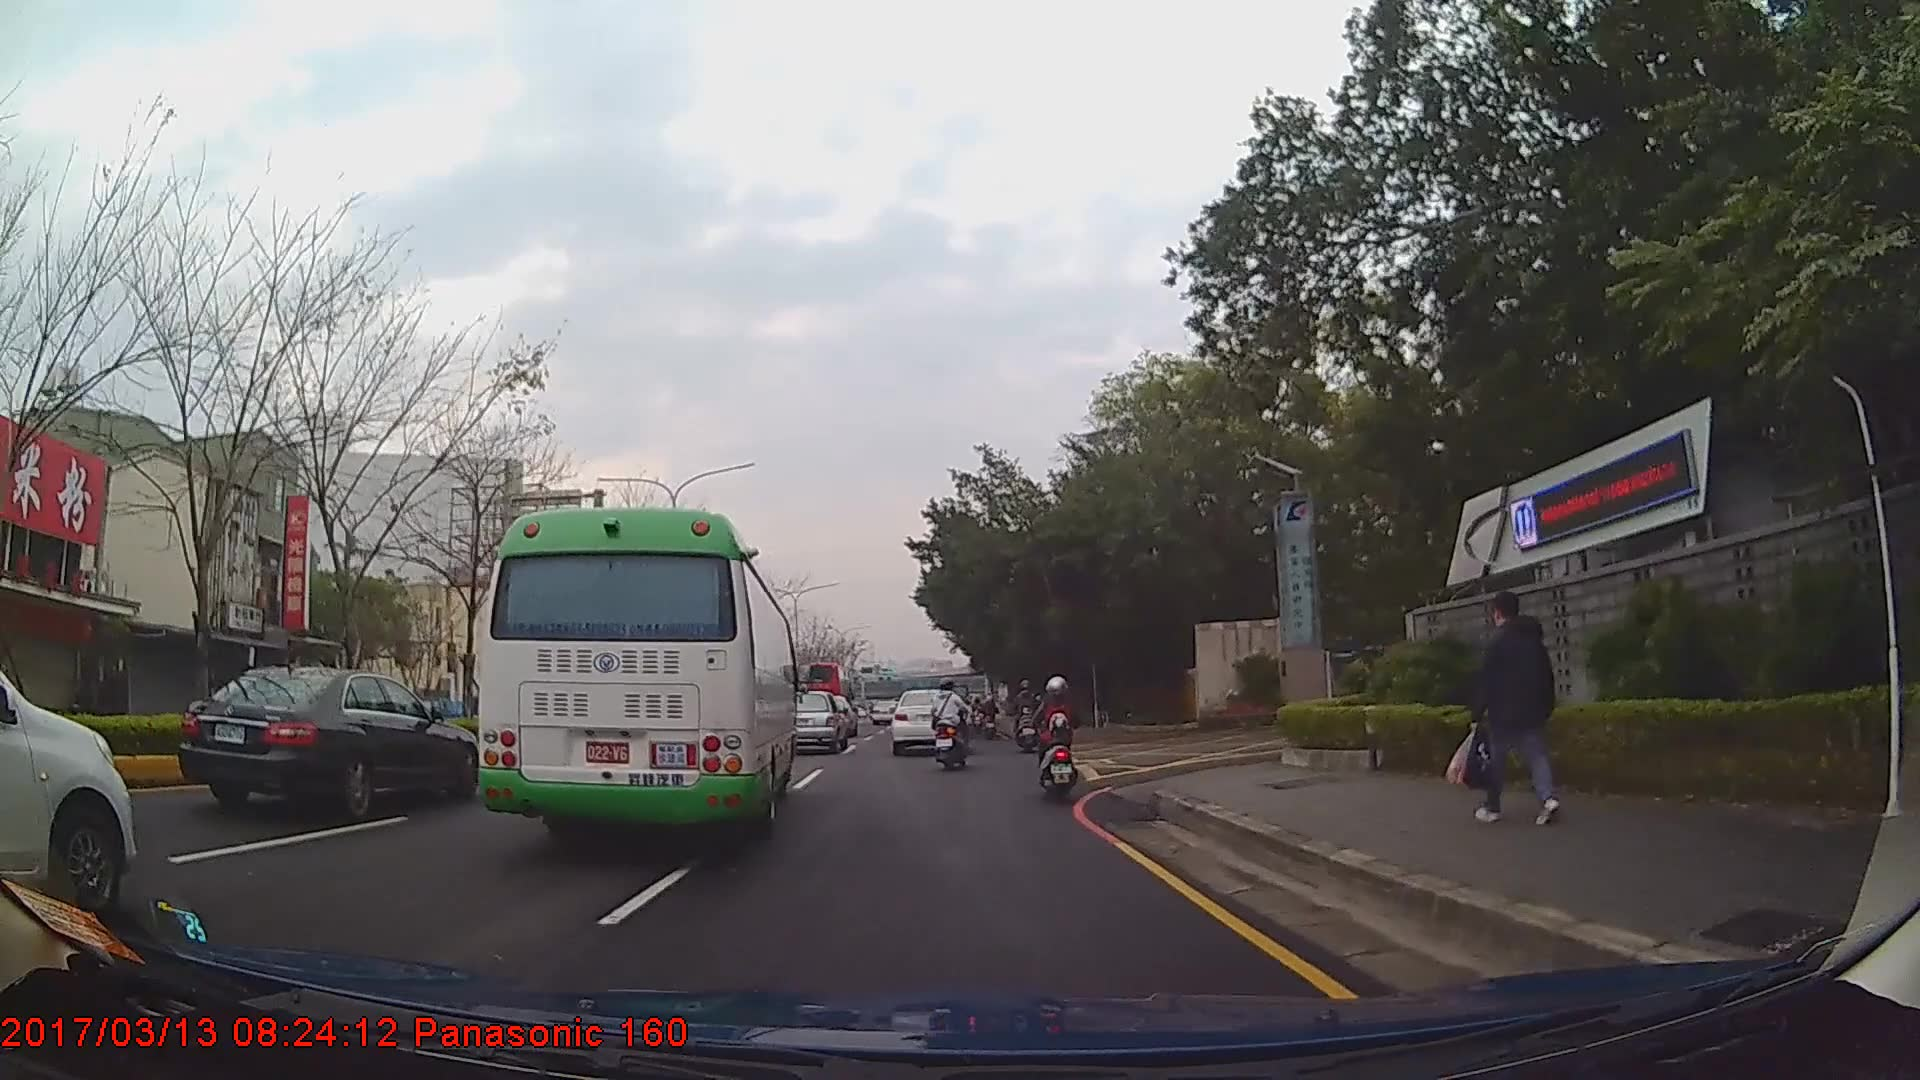pedestrian: (1451, 587, 1560, 825)
rider: (1037, 672, 1078, 797), (932, 677, 972, 768), (1011, 676, 1043, 751), (980, 693, 1000, 727)
vehicle: (475, 504, 797, 845), (176, 664, 481, 820), (0, 661, 136, 919), (890, 686, 963, 755), (791, 691, 849, 755)
